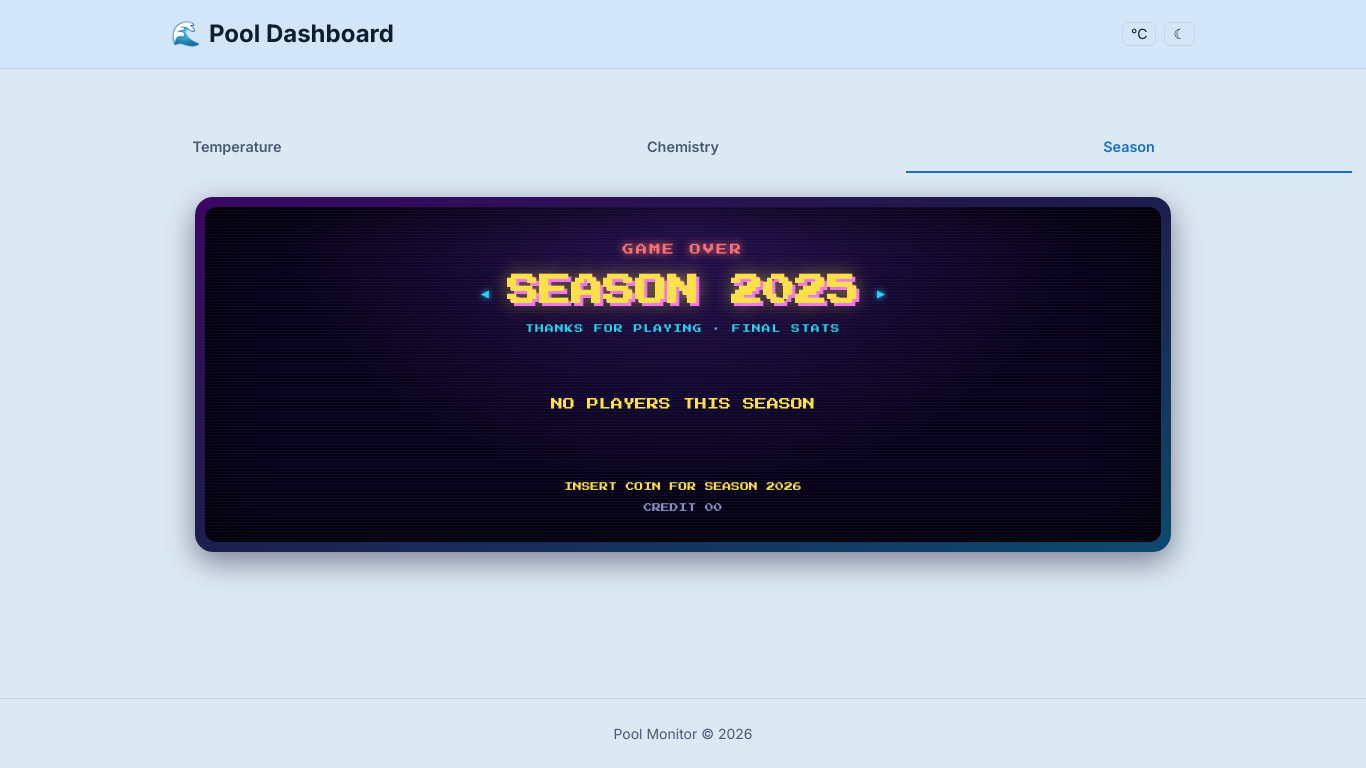
Test: App › off-season mode › shows a paused-recording notice on the Temperature tab
Expected: the heading "SEASON 2025" is shown, [507, 271, 859, 312]
Click the tab "Temperature". click: x=237, y=150
box: [14, 127, 460, 173]
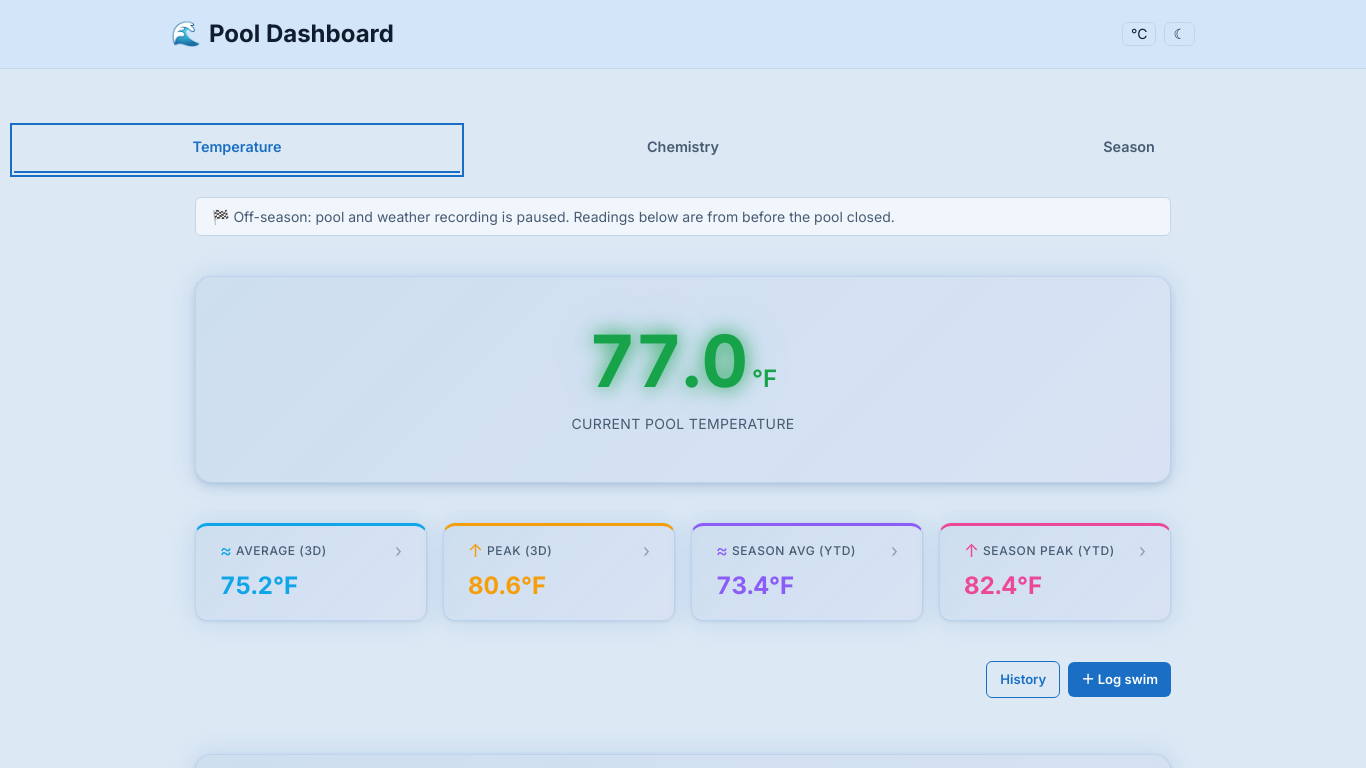
Expected: the message shows "recording is paused", [212, 208, 895, 225]
